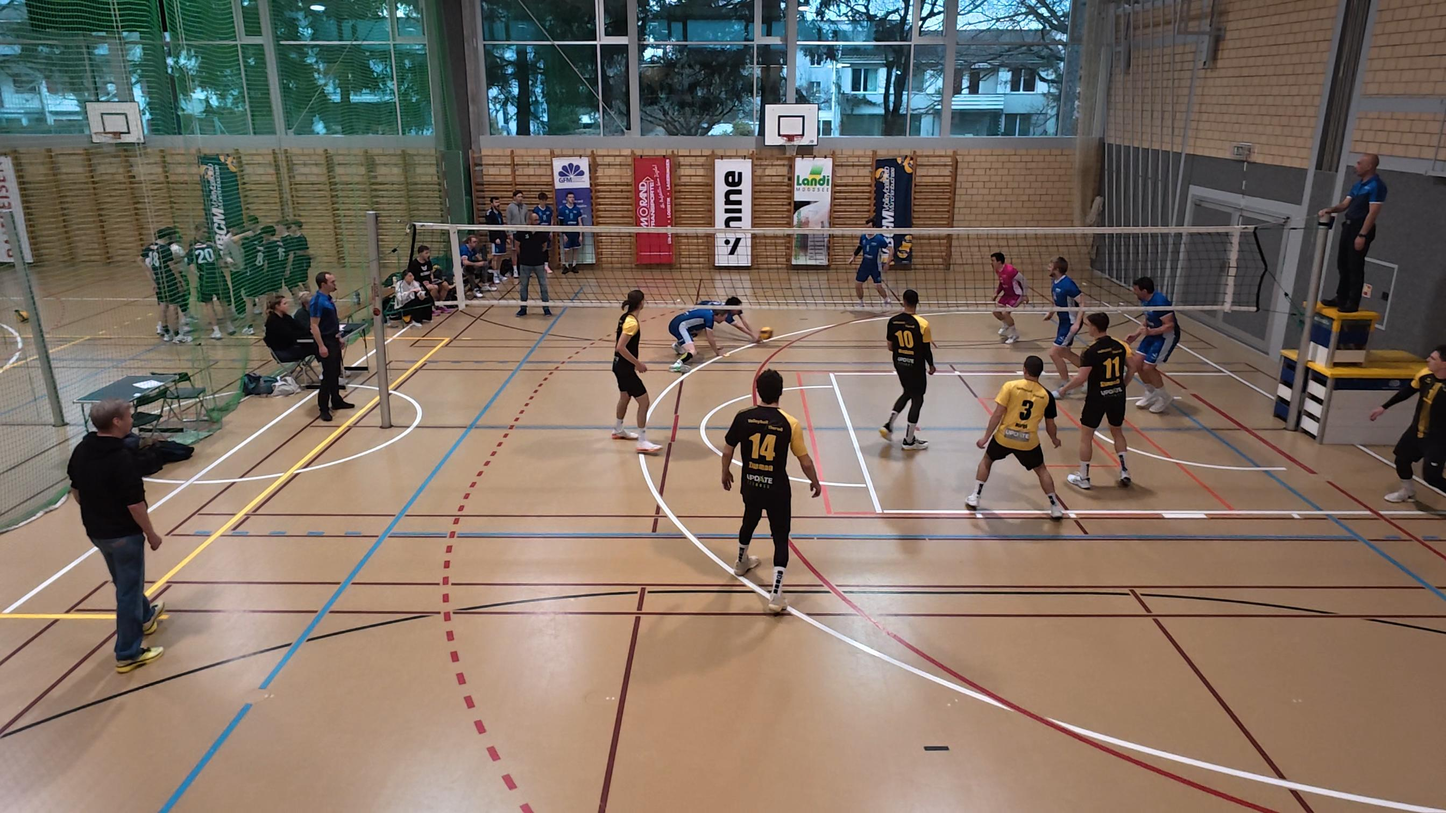difesa: (665, 292, 762, 374)
